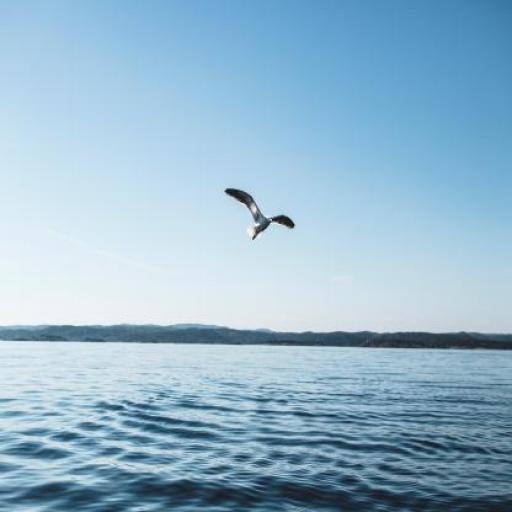bird: (223, 187, 295, 241)
